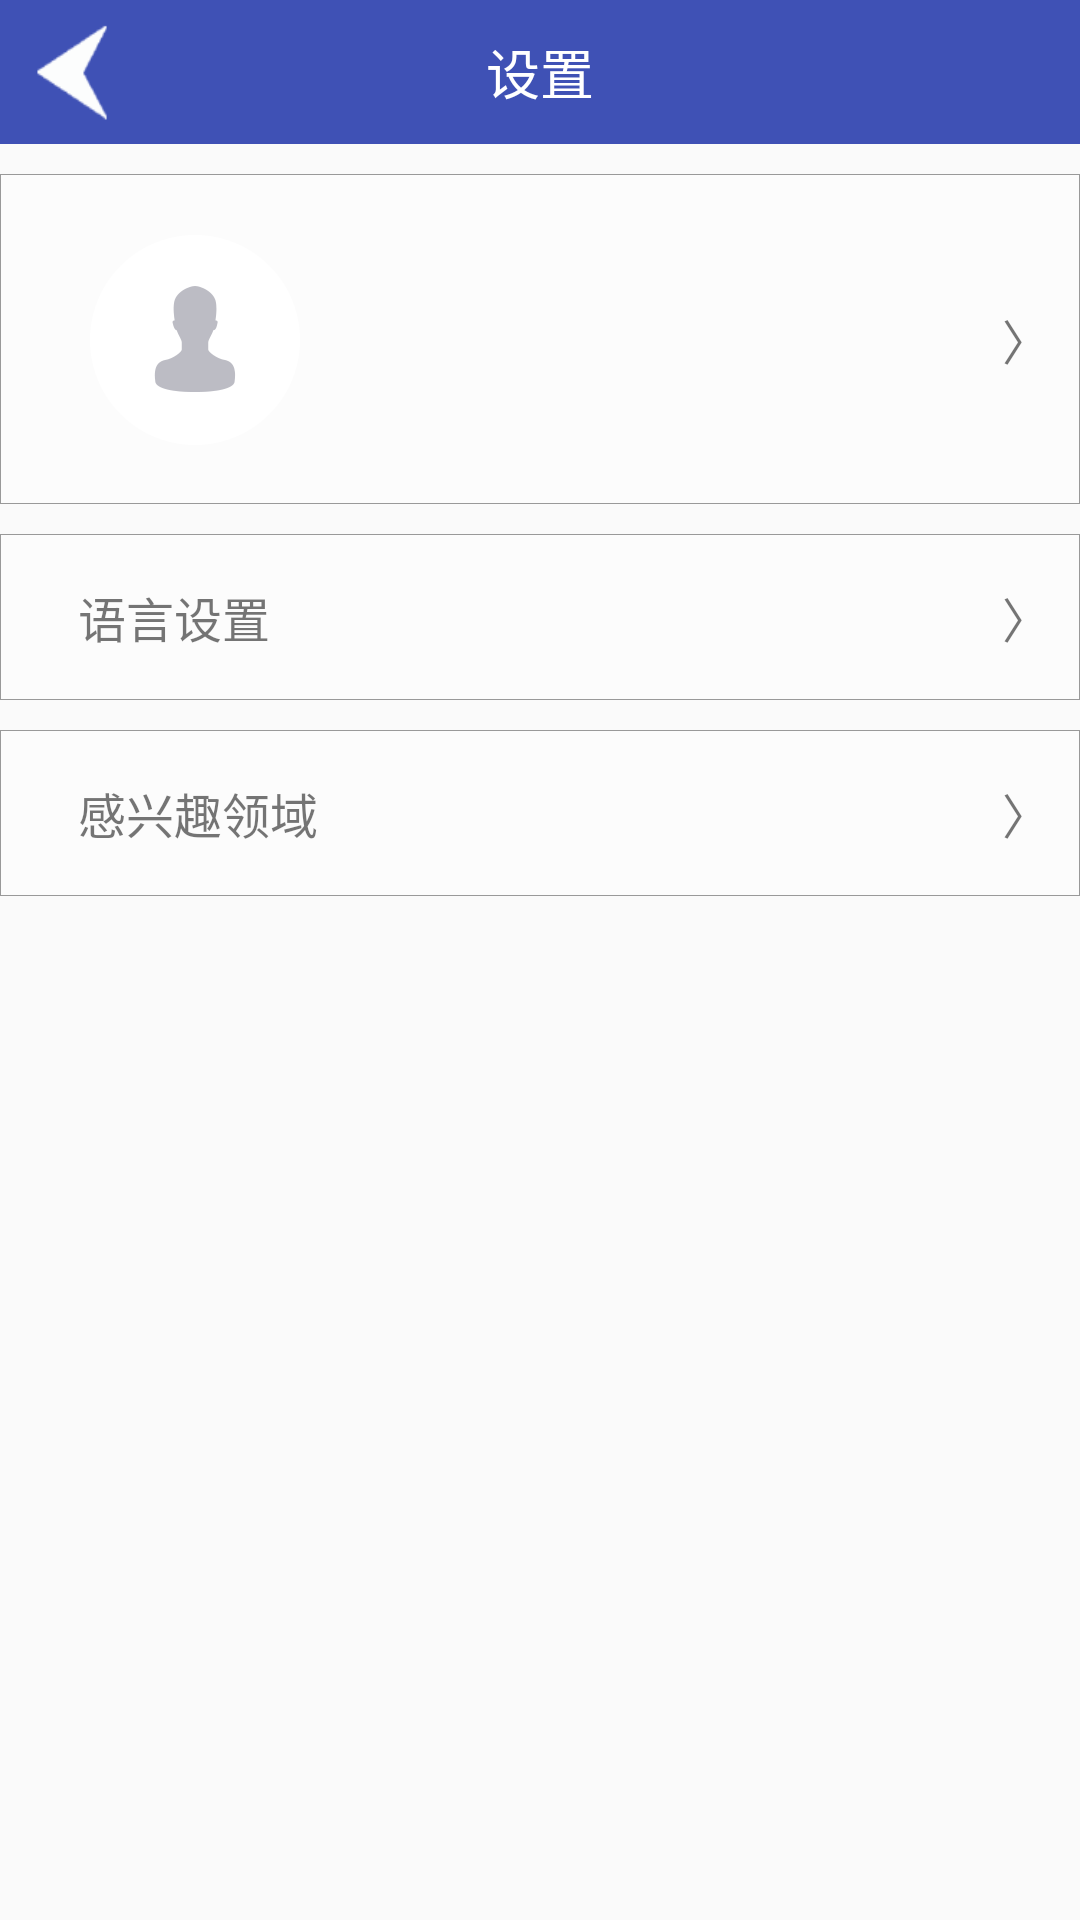

Locate icon controls on the screen. Image size 1080w x 1920h, boxes as (x1, y1, x2, y2).
back: (37, 26, 107, 120)
myhead: (155, 286, 235, 392)
